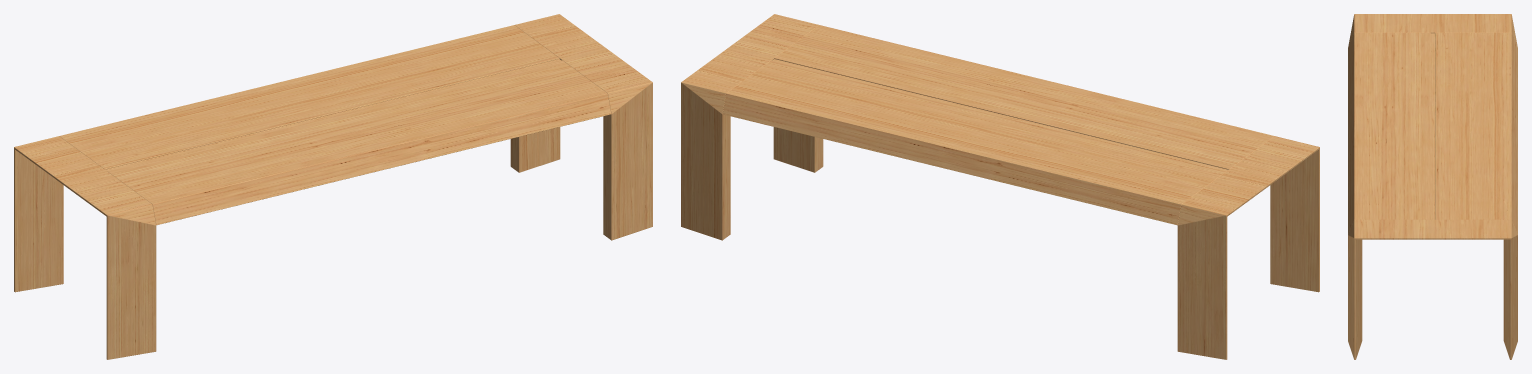
The model's file is Table Ceccotti Klas N061119.obj.
3 renders of one model, left to right at view 1: azimuth 30°, elevation 25°; view 2: azimuth 150°, elevation 25°; view 3: azimuth 270°, elevation 25°, orthographic. The views are drawn at different scales.
Visible parts, largest first — view 1: ceccotti_klas_table_001; view 2: ceccotti_klas_table_001; view 3: ceccotti_klas_table_001.
Part boxes in pixels (x1,y1,x2,y2): ceccotti_klas_table_001: (14, 14, 652, 359); ceccotti_klas_table_001: (681, 14, 1319, 359); ceccotti_klas_table_001: (1348, 14, 1517, 359).
Size of the model in its own units: 1181 by 299 by 378.
